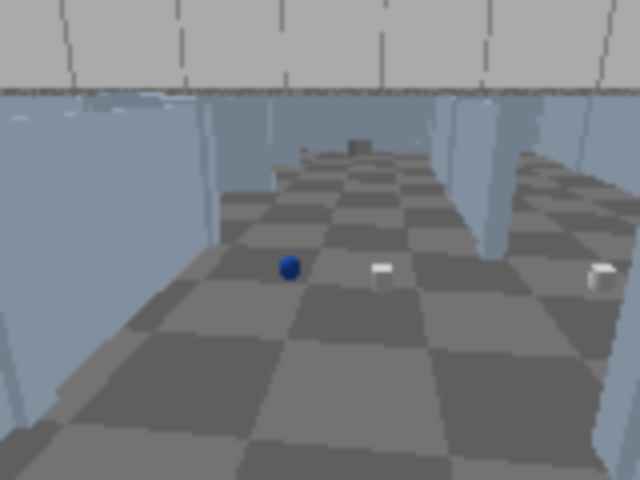obstacle: (349, 138, 373, 157)
puck: (274, 252, 305, 285), (588, 264, 617, 293), (370, 265, 394, 294)
